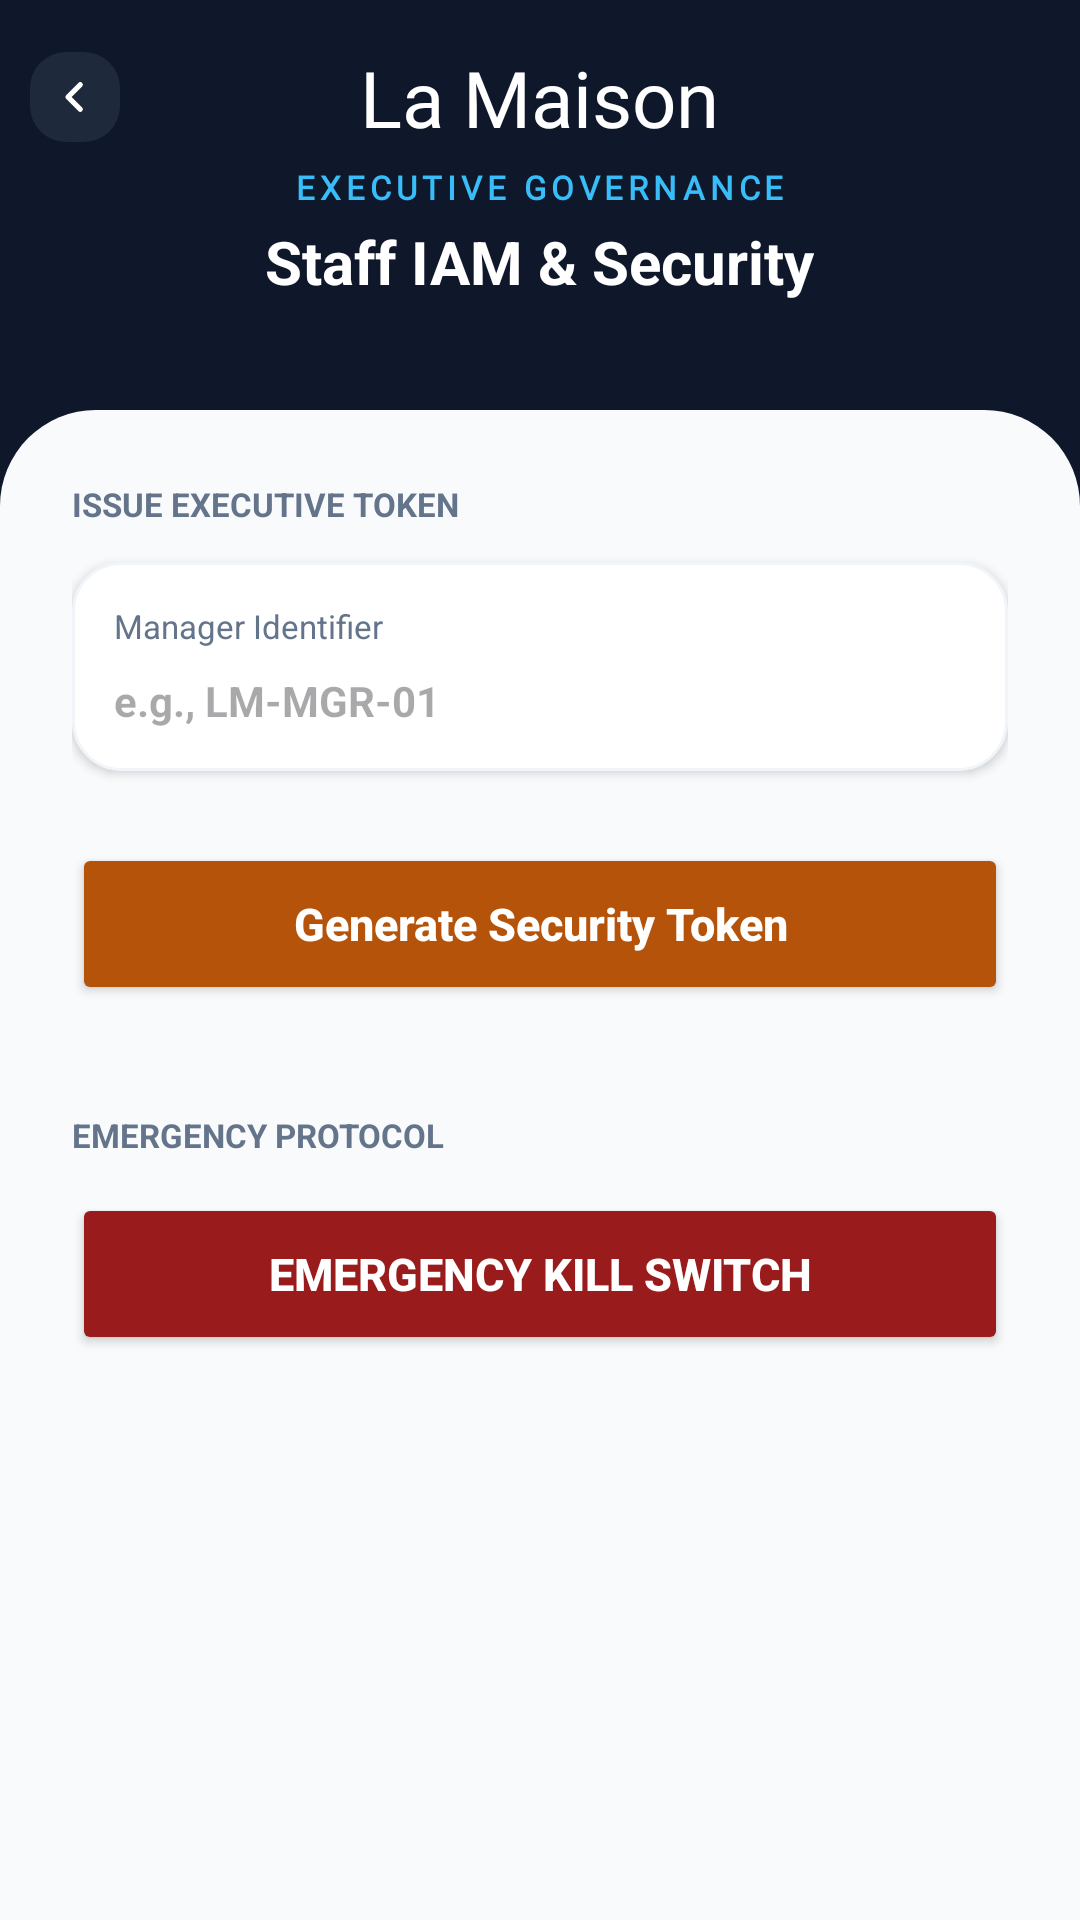

Icons on this 1080x1920 Android screen, each with its box as (left=x1, top=y1, right=x2, bottom=y2):
chevron left: (left=30, top=52, right=120, bottom=142)
